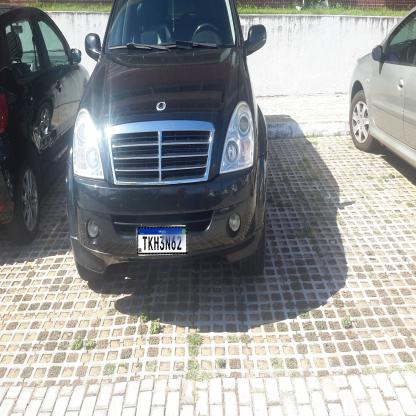PlacaM: (137, 226, 187, 254)
